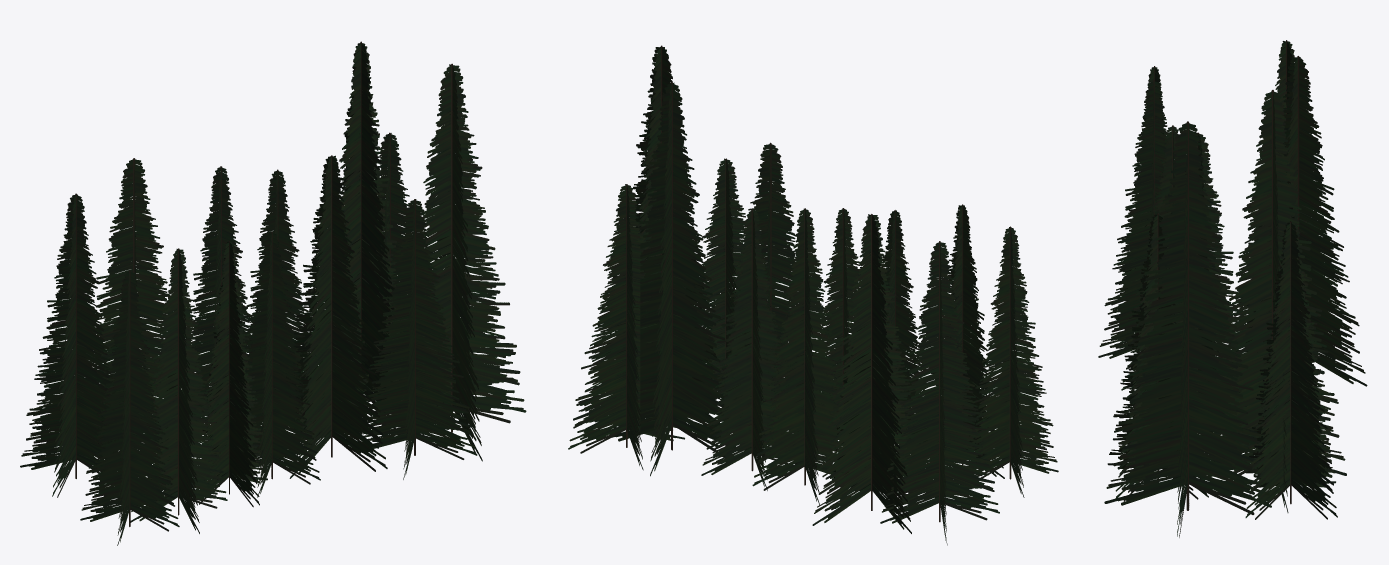
The model's file is S7U_FarConifers_20m_B.fbx.
3 renders of one model, left to right at view 1: azimuth 30°, elevation 25°; view 2: azimuth 150°, elevation 25°; view 3: azimuth 270°, elevation 25°, orthographic. The views are drawn at different scales.
Parts seen in each view (by area): view 1: S7U_FarConifers_20m_B; view 2: S7U_FarConifers_20m_B; view 3: S7U_FarConifers_20m_B.
Part boxes in pixels (left/top/right/bottom): S7U_FarConifers_20m_B: left=20, top=41, right=526, bottom=545; S7U_FarConifers_20m_B: left=568, top=45, right=1058, bottom=545; S7U_FarConifers_20m_B: left=1098, top=40, right=1367, bottom=537.
Size of the model in its own units: 26.08 by 20.84 by 13.36.
